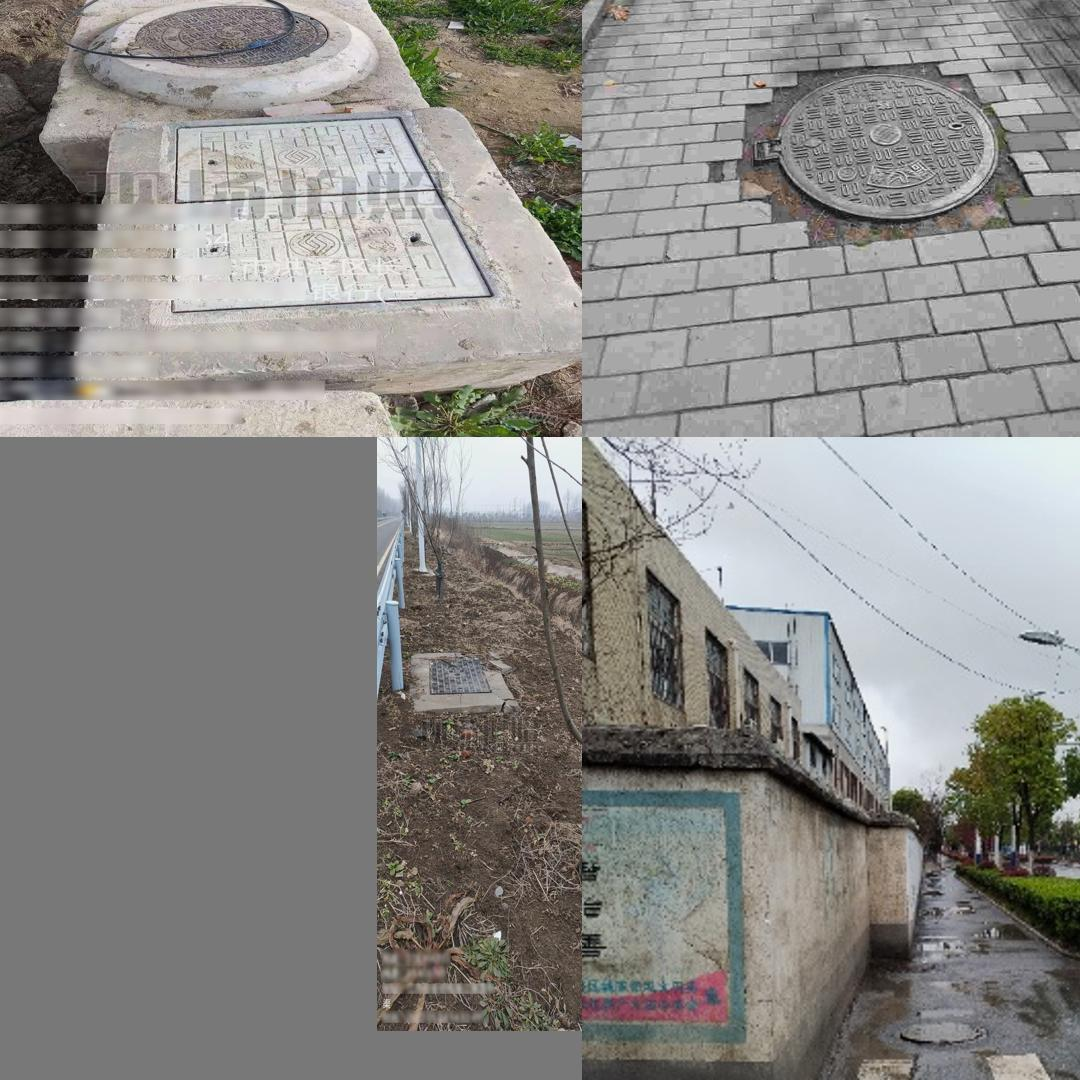good: (160, 110, 513, 319), (752, 72, 999, 221), (123, 5, 328, 68), (883, 1004, 1011, 1055), (424, 648, 494, 695)
